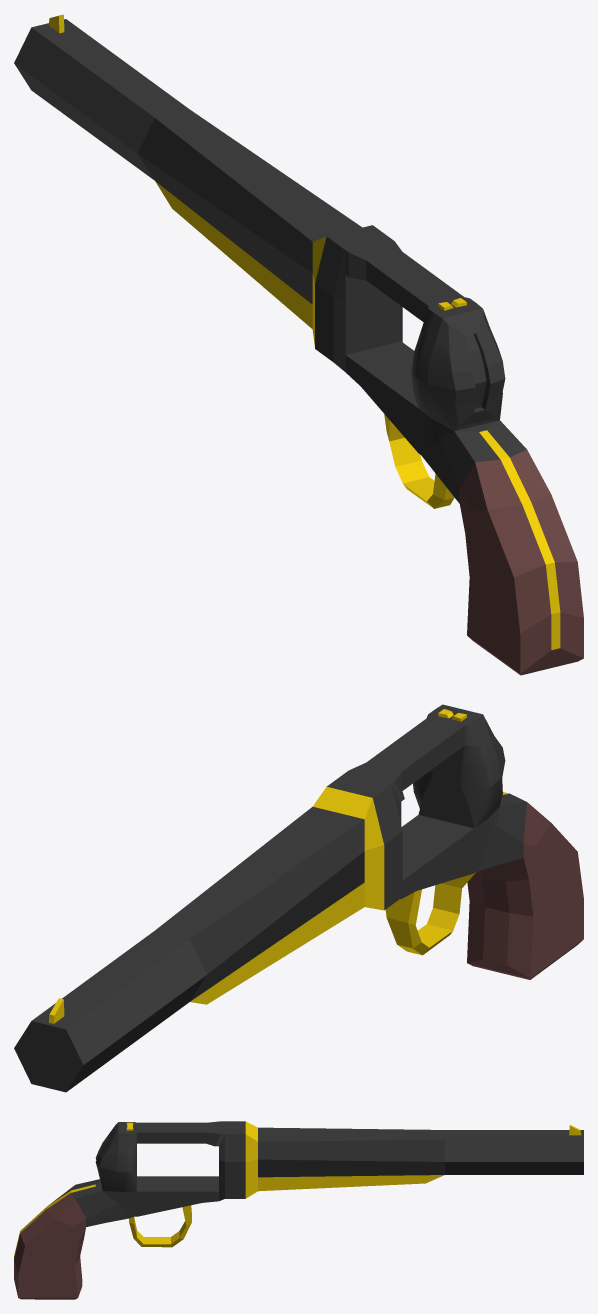
The model's file is BetterRevolver.fbx.
3 renders of one model, top to bottom at view 1: azimuth 30°, elevation 25°; view 2: azimuth 150°, elevation 25°; view 3: azimuth 270°, elevation 25°, orthographic. The views are drawn at different scales.
Parts seen in each view (by area): view 1: pCylinder2; view 2: pCylinder2; view 3: pCylinder2.
Part boxes in pixels (x1,y1,x2,y2): pCylinder2: [14, 14, 583, 675]; pCylinder2: [14, 704, 583, 1092]; pCylinder2: [14, 1121, 583, 1299].
Size of the model in its own units: 2.2 by 8.15 by 25.26.
